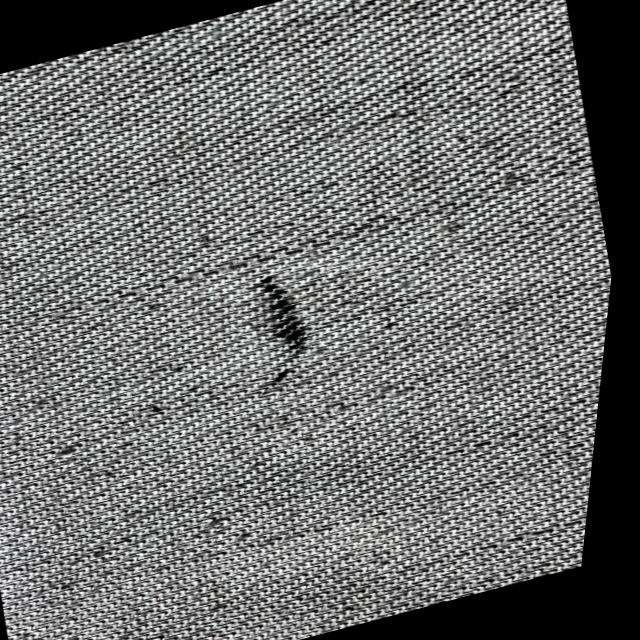Hole: (267, 272, 317, 392)
